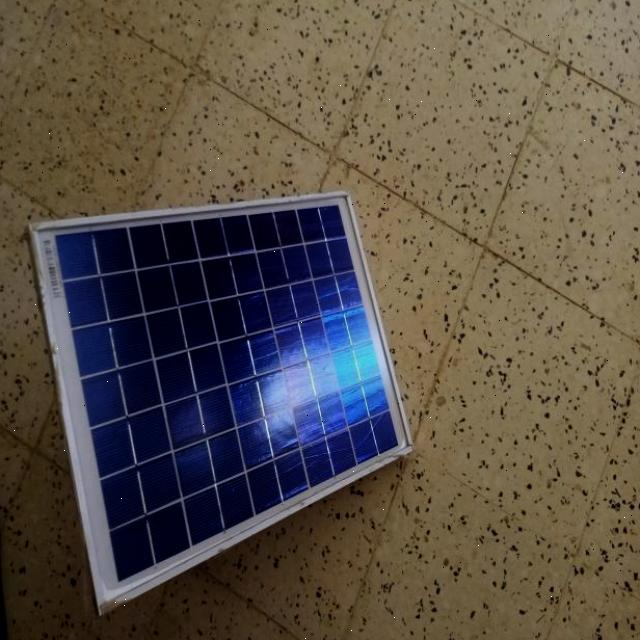Normal Solar Panel: (32, 192, 407, 610)
